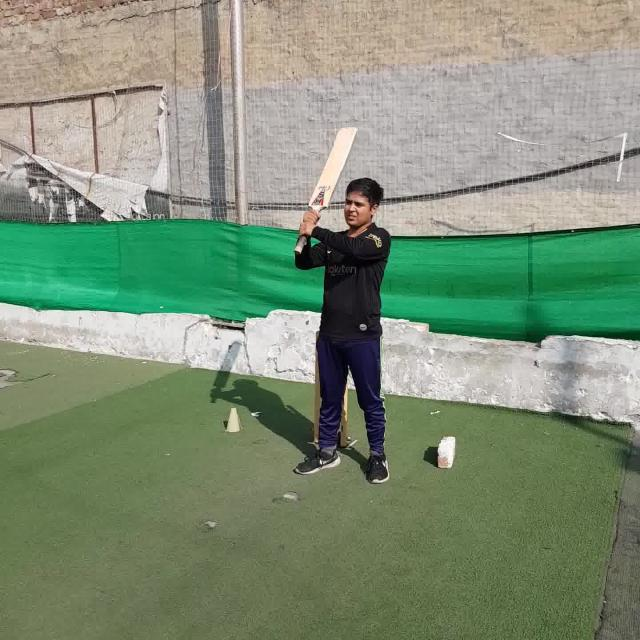bat: (293, 126, 357, 255)
